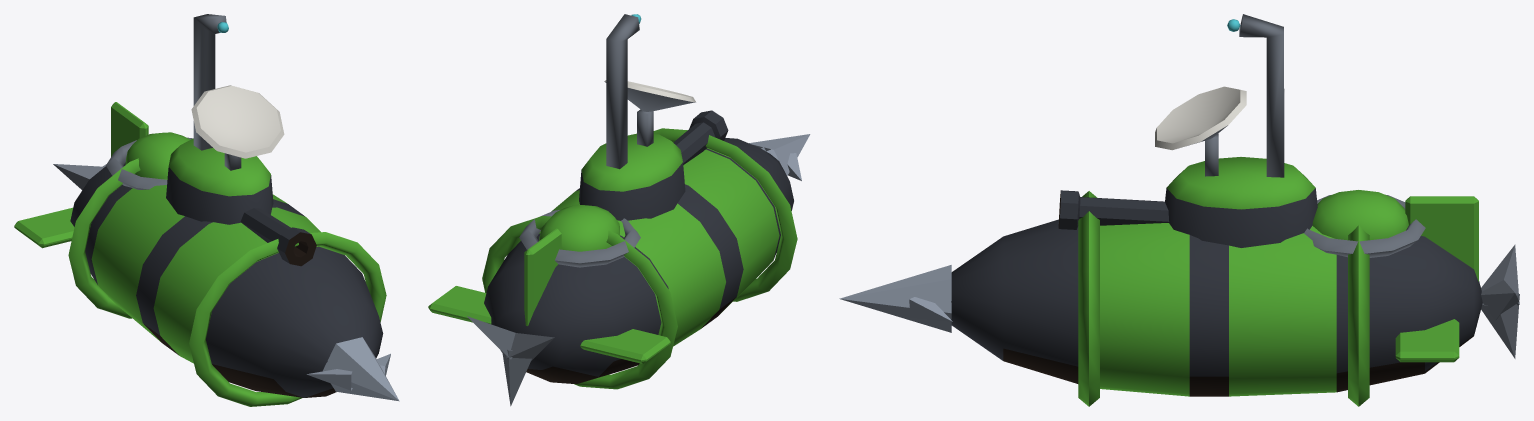
3 views of the same model, side by side, from view 1: azimuth 30°, elevation 25°; view 2: azimuth 150°, elevation 25°; view 3: azimuth 270°, elevation 25° (orthographic). The views are drawn at different scales.
Visible parts, largest first — view 1: submarino_0_base, submarino_1_torreta; view 2: submarino_0_base, submarino_1_torreta; view 3: submarino_0_base, submarino_1_torreta.
Part boxes in pixels (x1=…): submarino_0_base: x1=14, y1=102, x2=399, y2=406; submarino_1_torreta: x1=166, y1=14, x2=316, y2=266; submarino_0_base: x1=428, y1=128, x2=810, y2=406; submarino_1_torreta: x1=579, y1=14, x2=728, y2=220; submarino_0_base: x1=839, y1=190, x2=1519, y2=406; submarino_1_torreta: x1=1058, y1=14, x2=1317, y2=247.
Size of the model in its own units: 0.58 by 0.8458 by 1.39.
